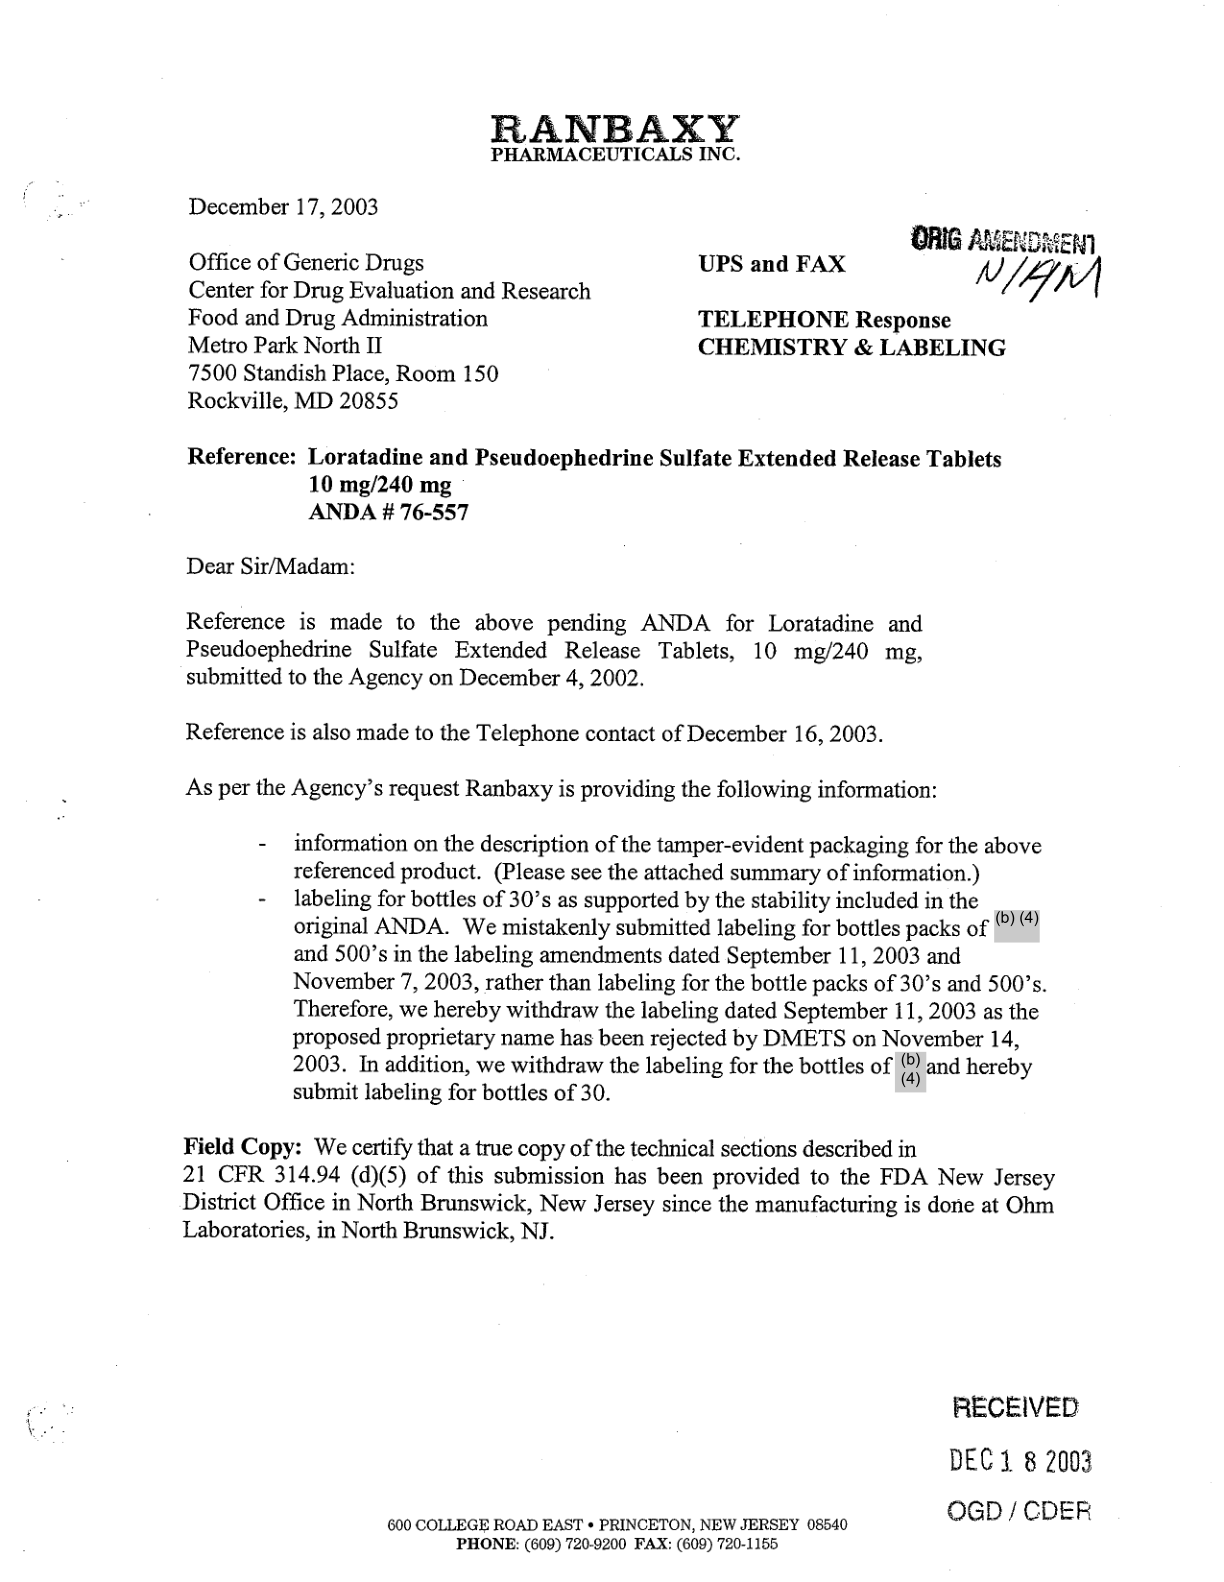nolines: (185, 229, 1105, 413)
